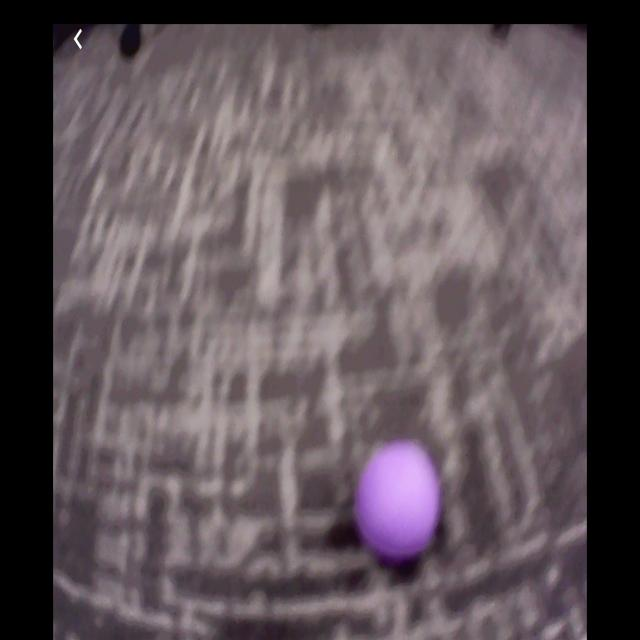ball: (355, 437, 440, 562)
